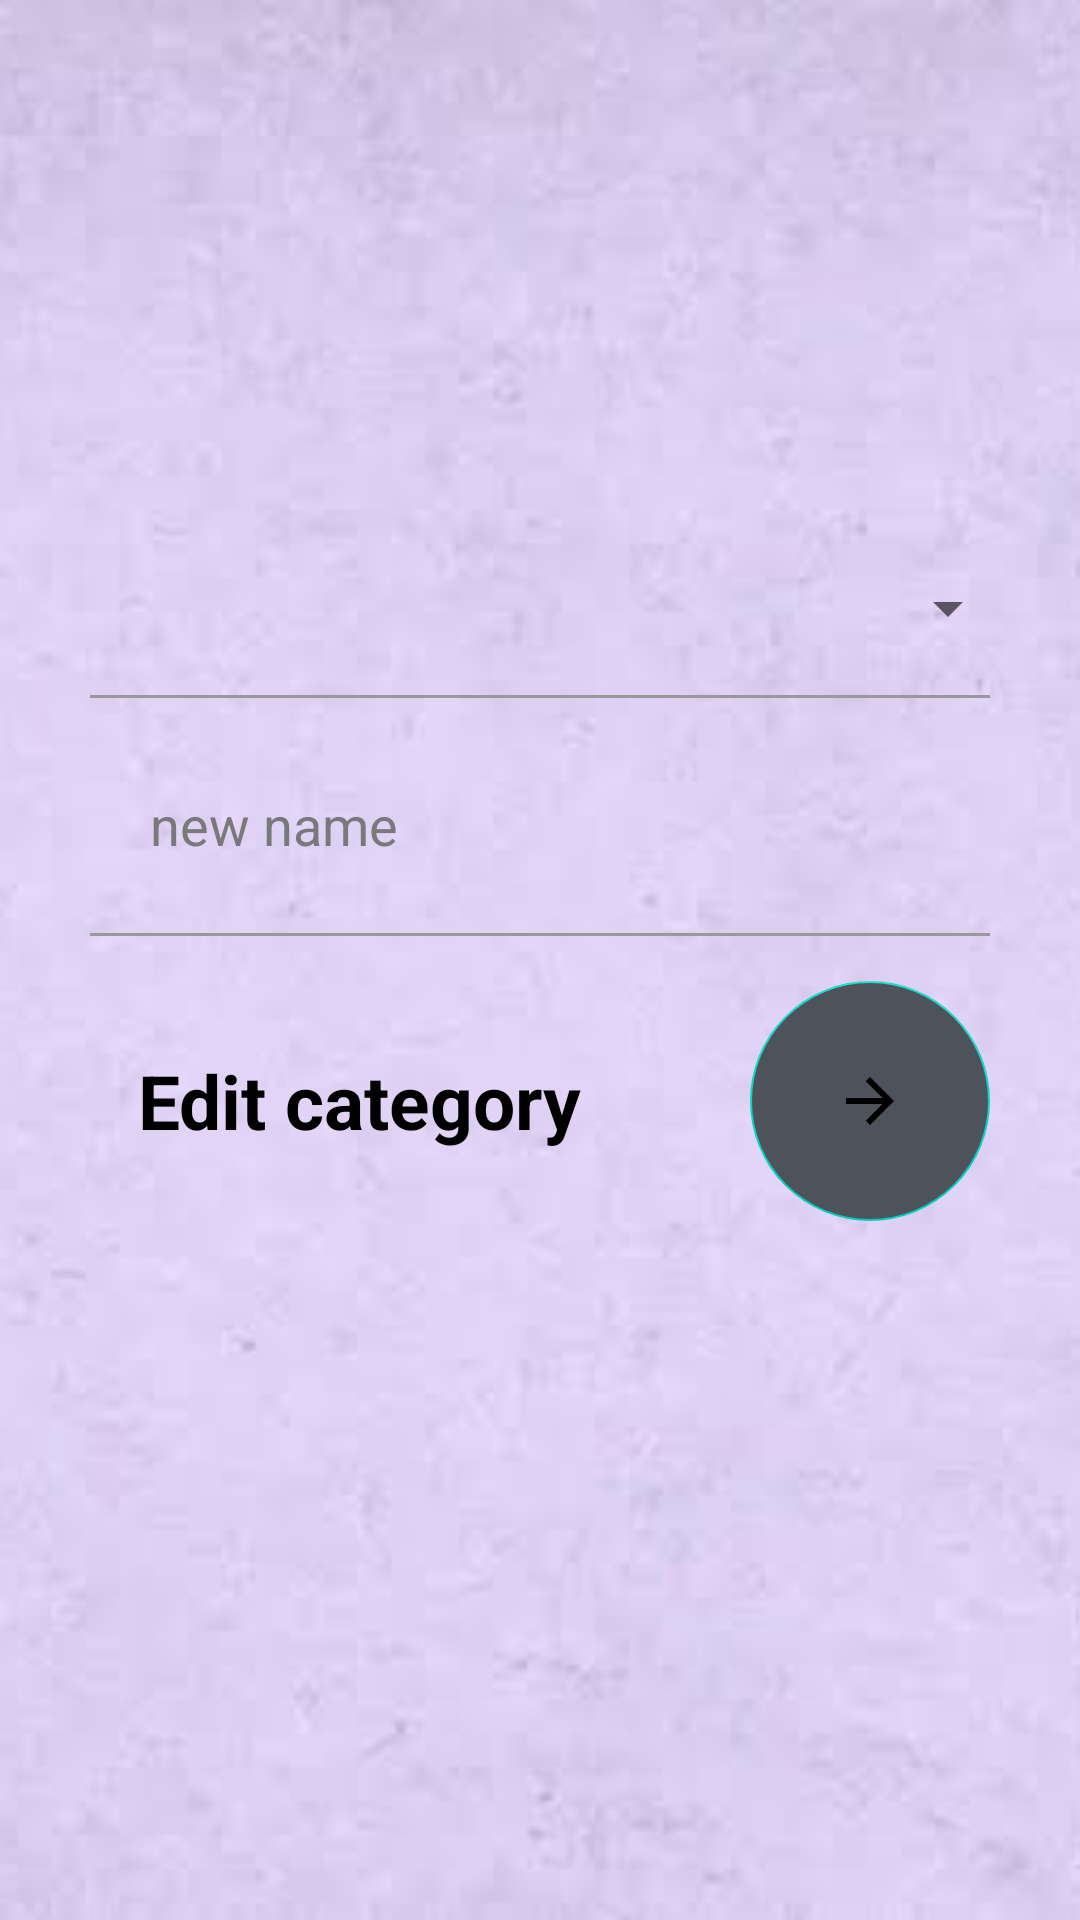

Where icons sit on this 1080 x 1920 app screen, as (x1, y1, x2, y2):
arrow forward: (750, 981, 990, 1221)
